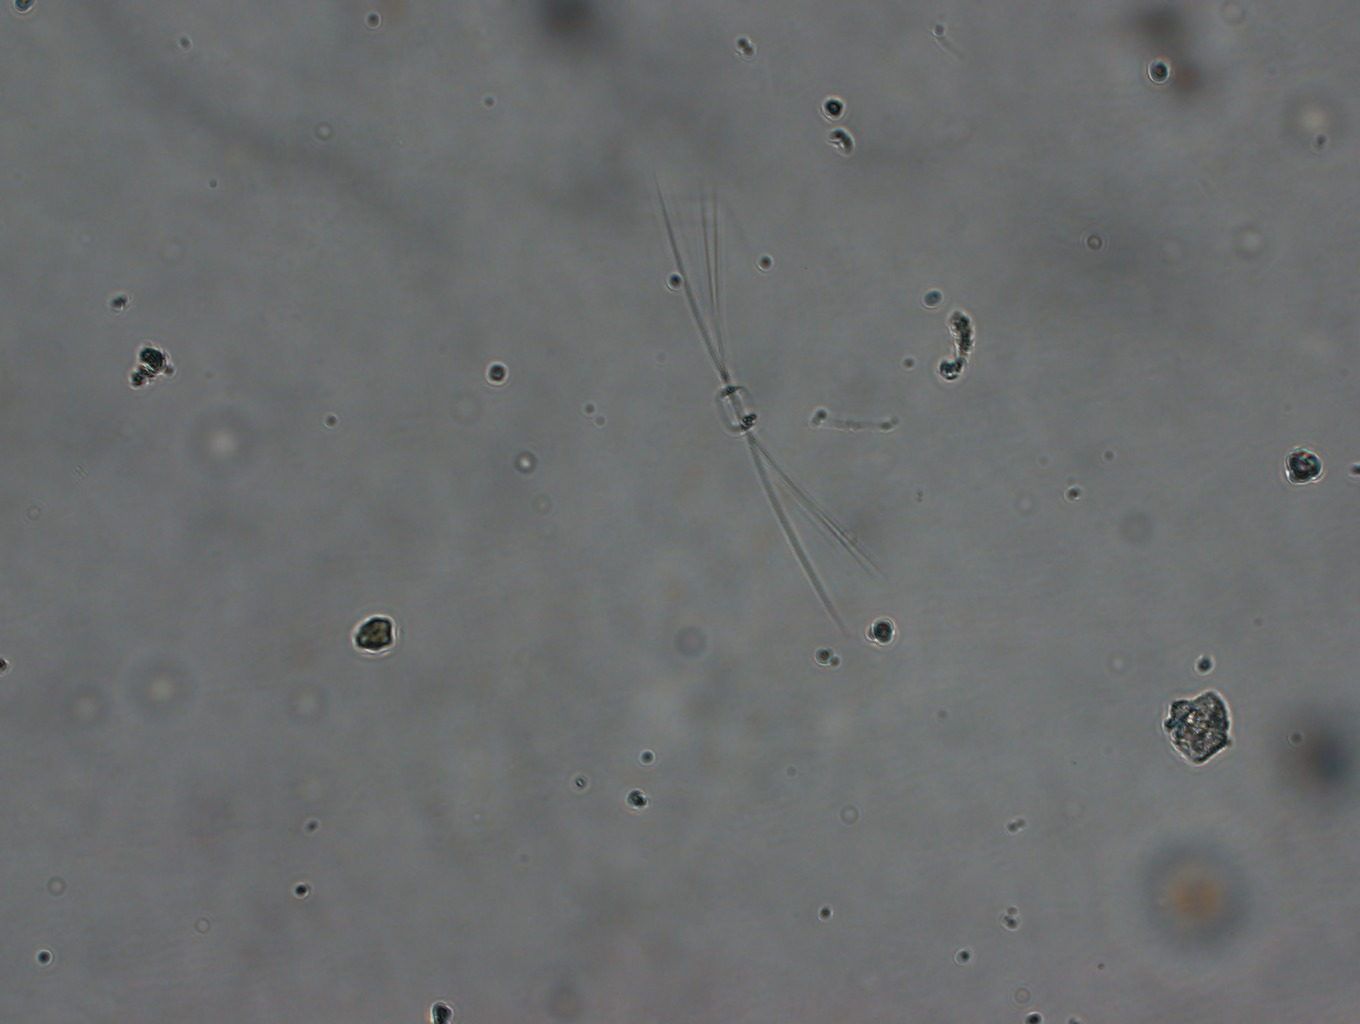chaetoceros: (619, 205, 843, 605)
